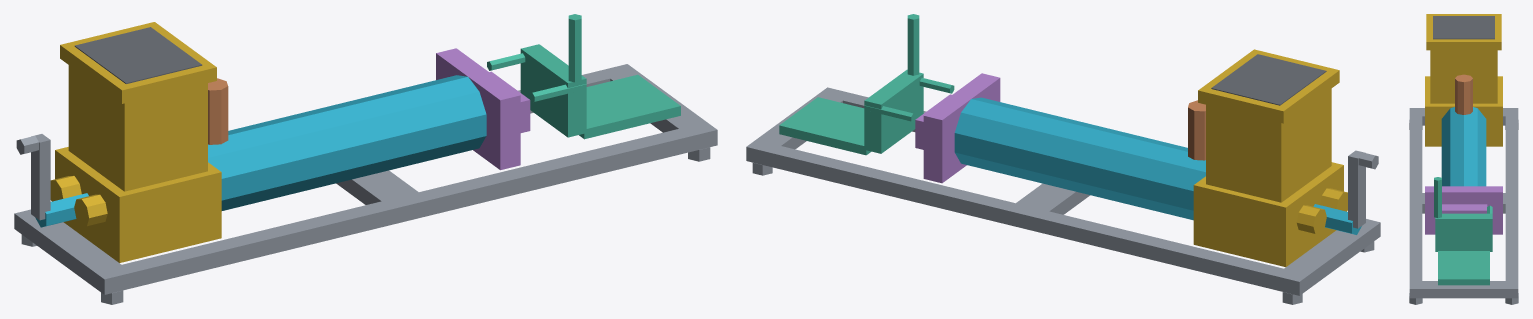
The model's file is stage-0.gltf.
3 views of the same model, side by side, from view 1: azimuth 30°, elevation 25°; view 2: azimuth 150°, elevation 25°; view 3: azimuth 270°, elevation 25° (orthographic). The views are drawn at different scales.
Parts seen in each view (by area): view 1: SYS-BCA-STAGE-0; view 2: SYS-BCA-STAGE-0; view 3: SYS-BCA-STAGE-0.
Boxes of the visible parts, x1,y1,x2,y2 form: SYS-BCA-STAGE-0: (14, 14, 717, 304); SYS-BCA-STAGE-0: (746, 14, 1380, 304); SYS-BCA-STAGE-0: (1409, 14, 1518, 304).
Bounding box in the file's own units: 351 × 102 × 84.39.
